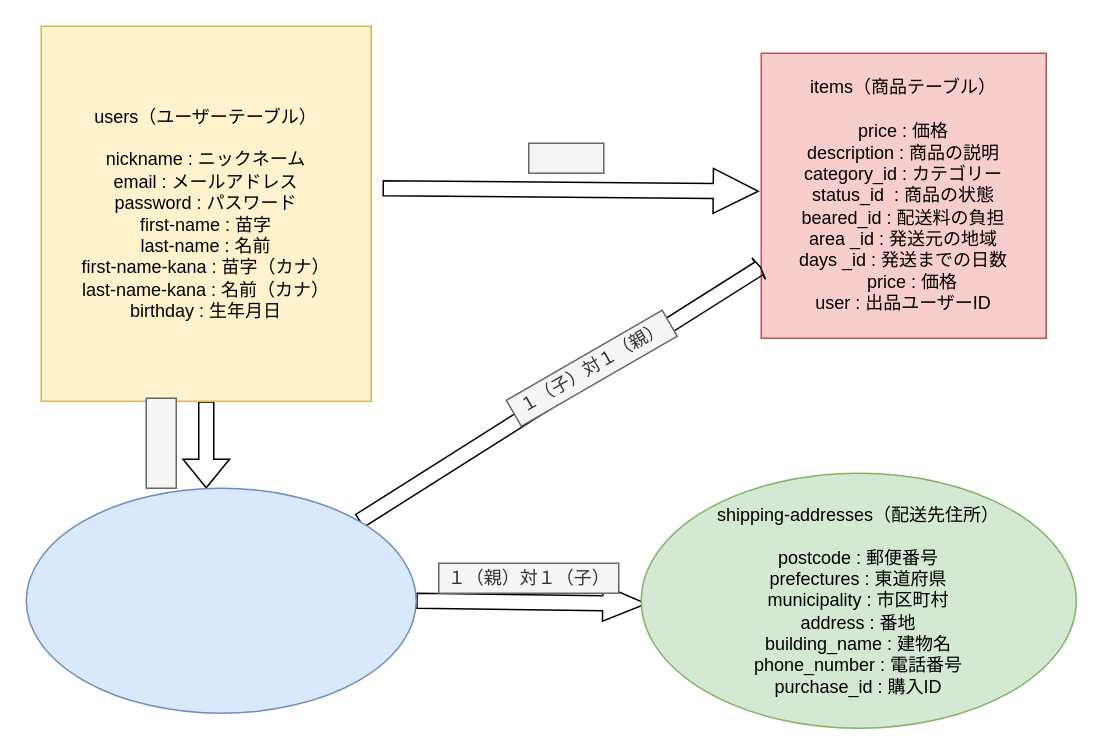
Image size: 1103x755. Some labels were removed from this diagram. Here are the shapes that lost their labels. From the top down, the box of each, then its label:
(527, 142, 604, 173): １：多
(145, 397, 176, 488): １ 対 多
(25, 487, 416, 713): purchaces user_id : 購入ユーザーID item_id : 購入商品ID
